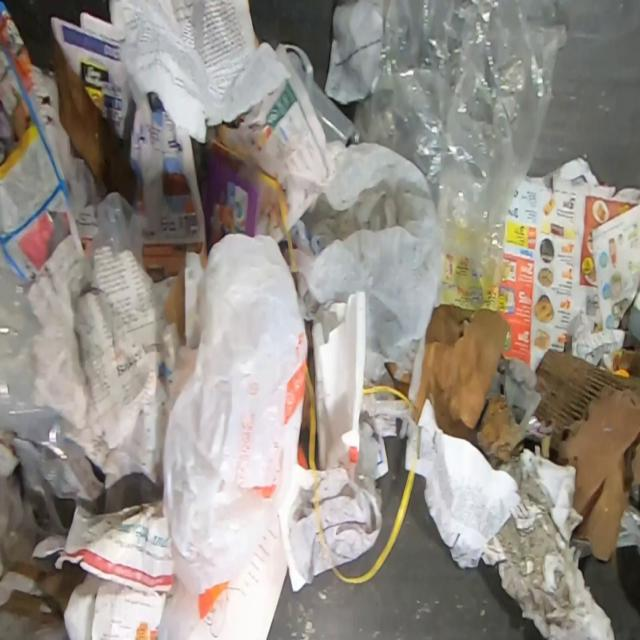cardboard: (533, 348, 639, 562), (410, 303, 512, 443), (51, 38, 136, 206)
rigid_plastic: (283, 44, 355, 147)
soft_plastic: (156, 232, 310, 640), (350, 0, 568, 278), (290, 143, 444, 406), (0, 266, 69, 462)
